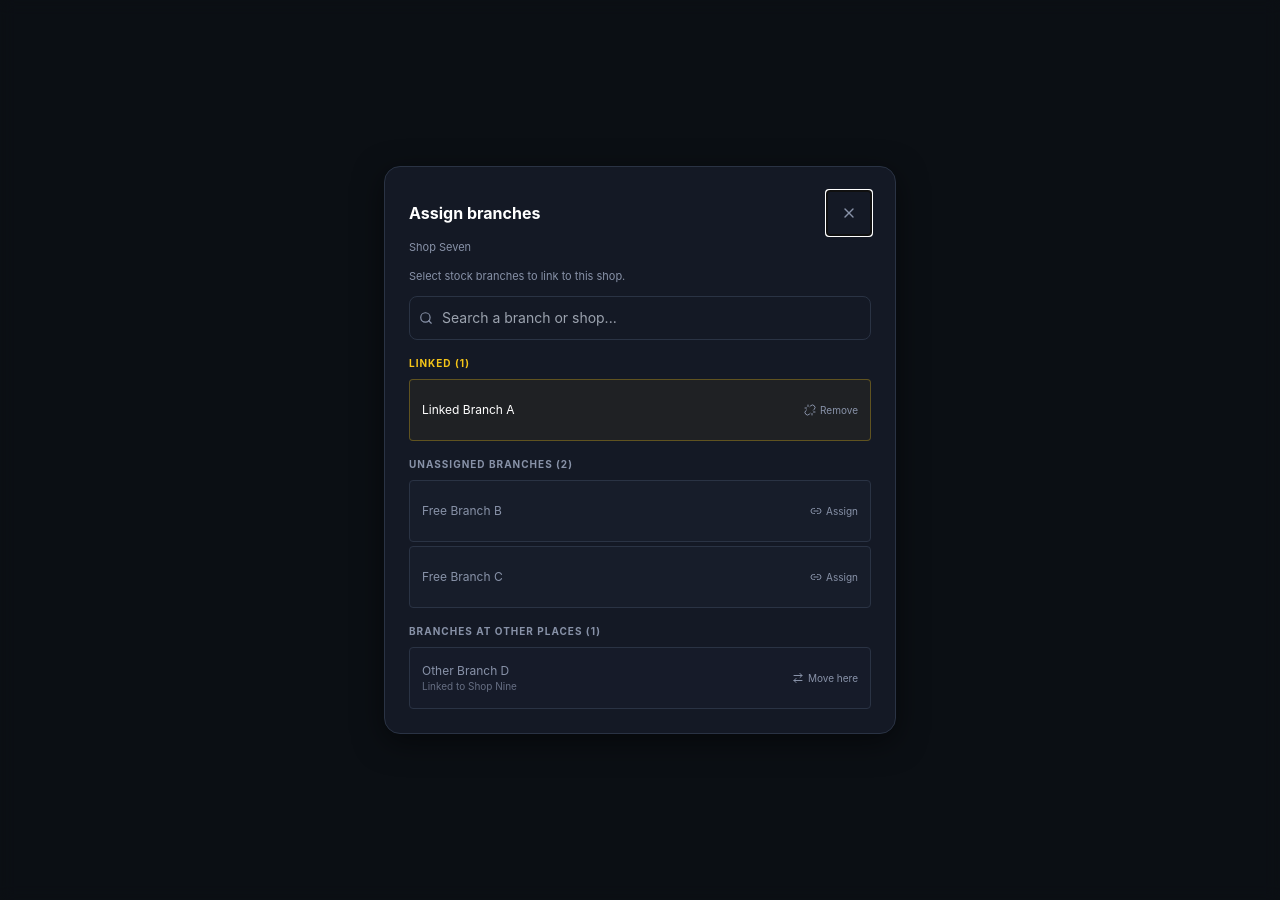
Test: AssignProviderDialog branches › surfaces an error when linking a branch fails
Click the button "Assign" in the row of "Free Branch B".
click(834, 511)  # box [810,489,858,533]
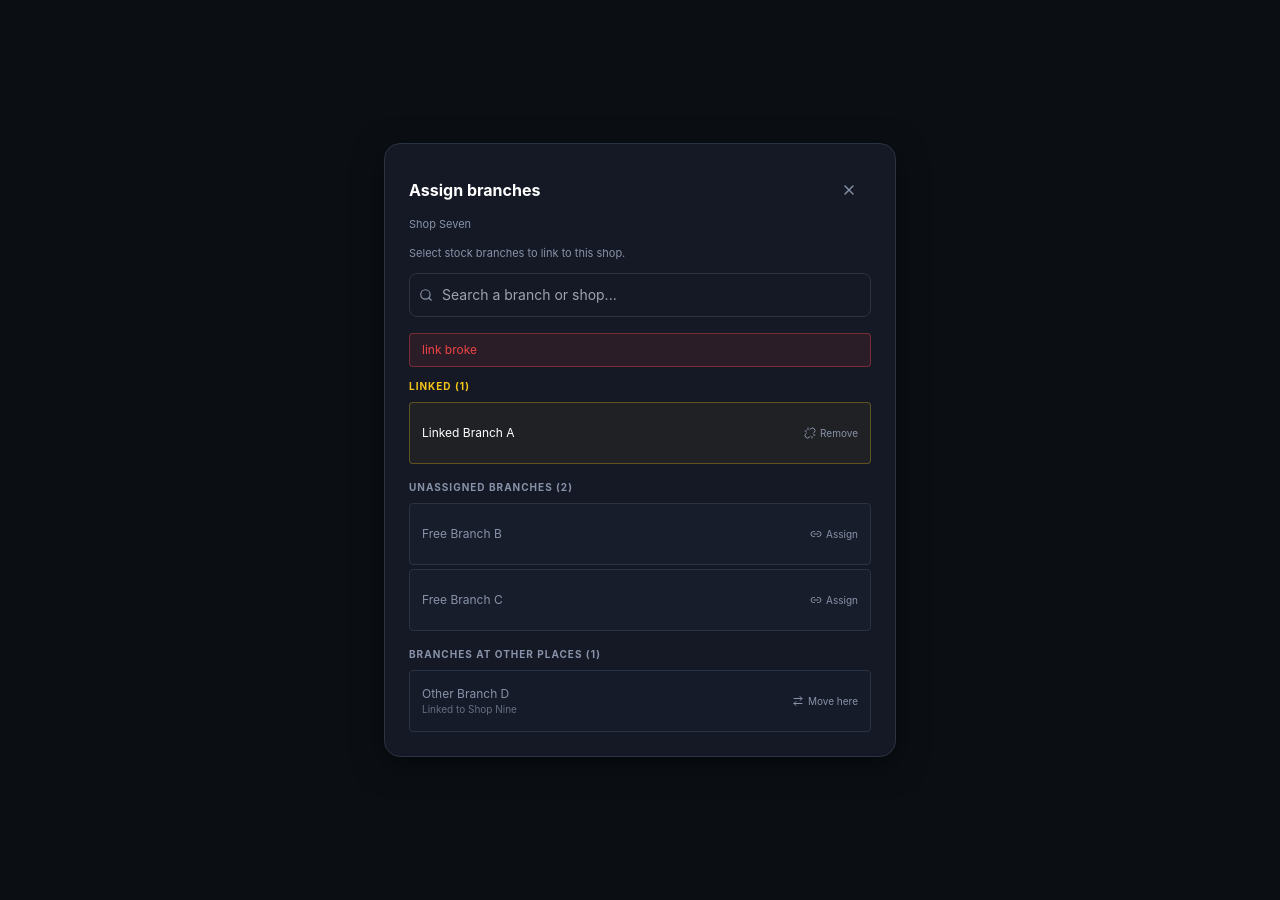
Expected: the message reads "link broke", [422,342,477,357]
